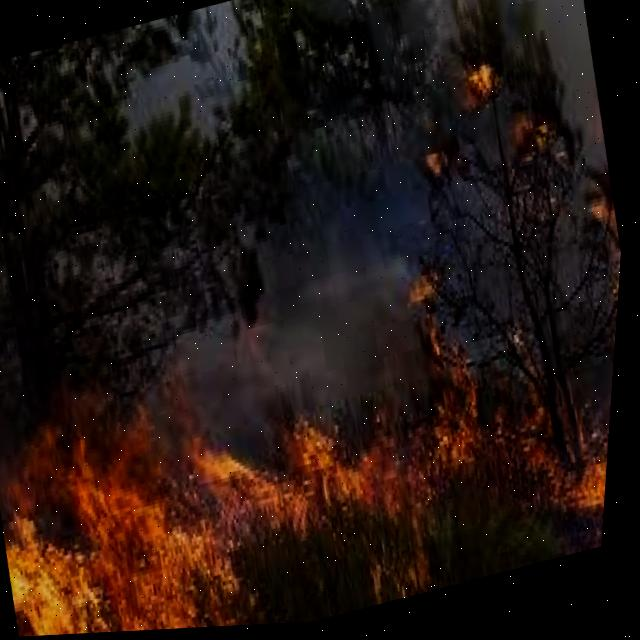smoke: (0, 0, 625, 517)
